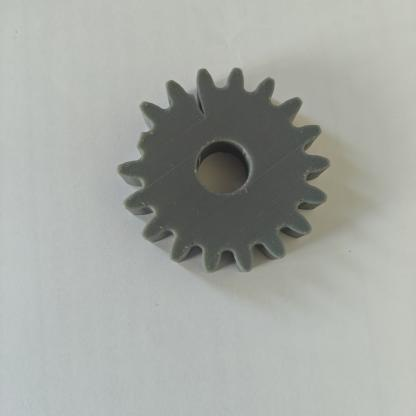defect: (167, 65, 228, 137), (106, 117, 161, 171)
gear: (98, 46, 357, 290)
